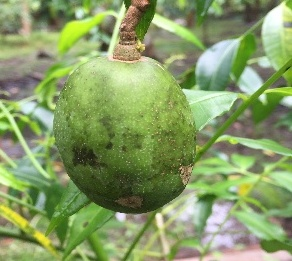Coc: (52, 55, 198, 214)
